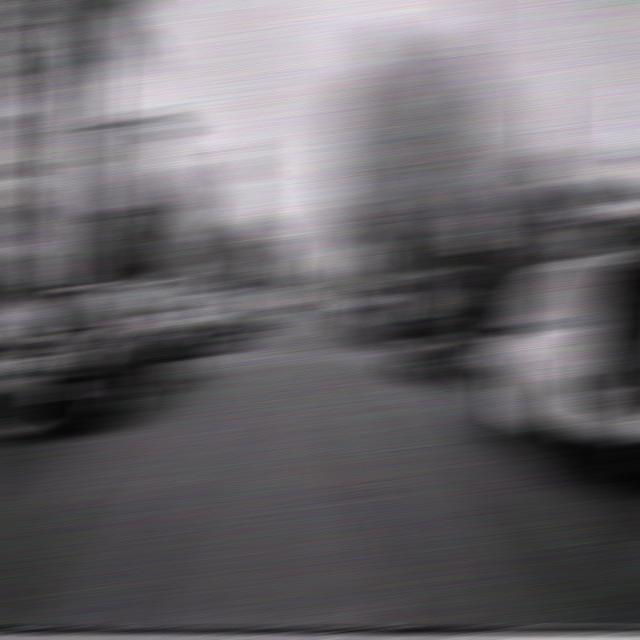speedLimit25: (458, 210, 499, 252)
